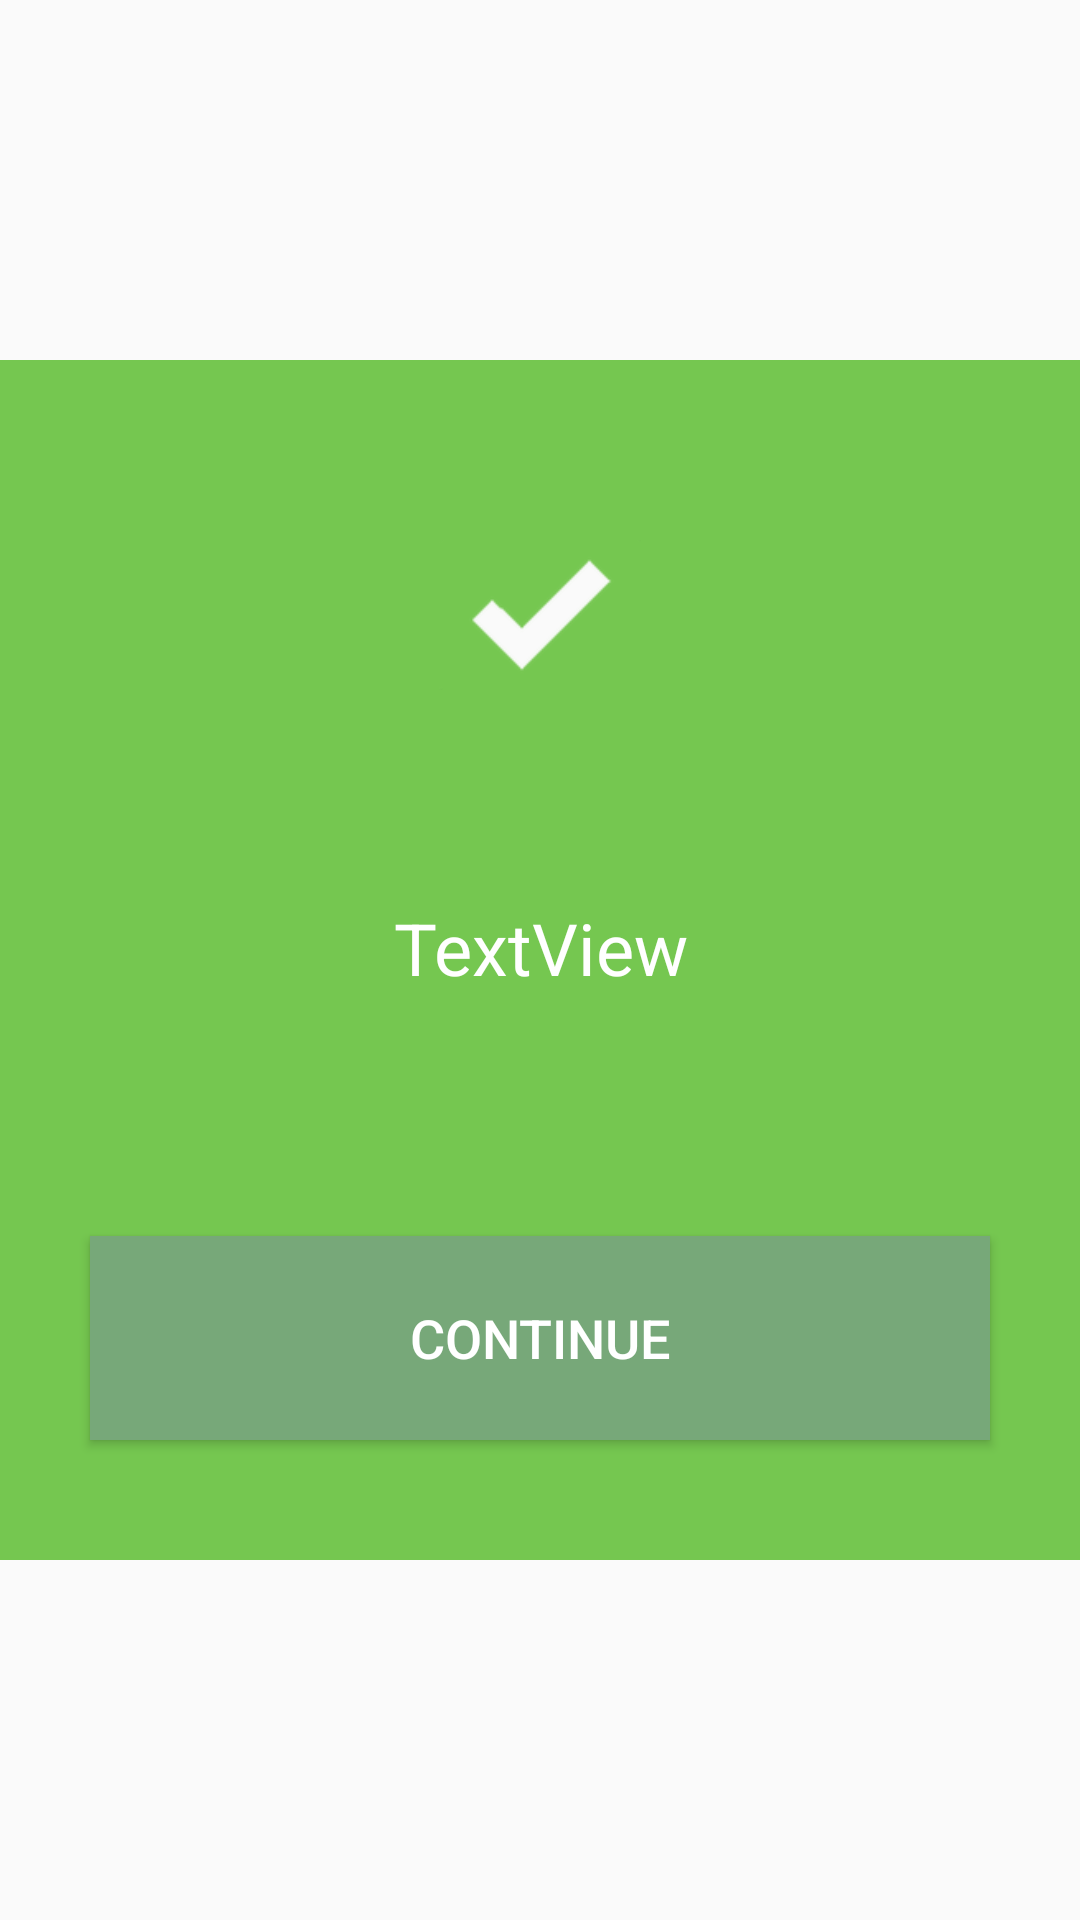

Icons on this 1080 × 1920 Android screen, each with the point to tap as (x=x, y=y):
tick: (x=541, y=615)
